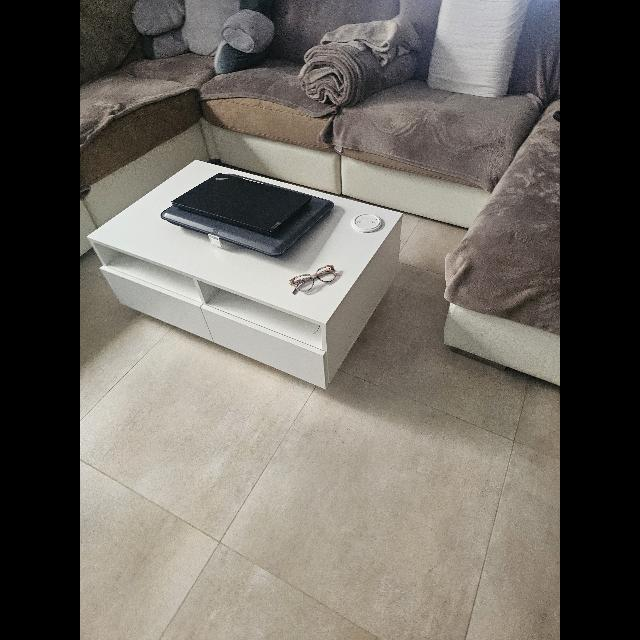glasses: (289, 265, 339, 295)
